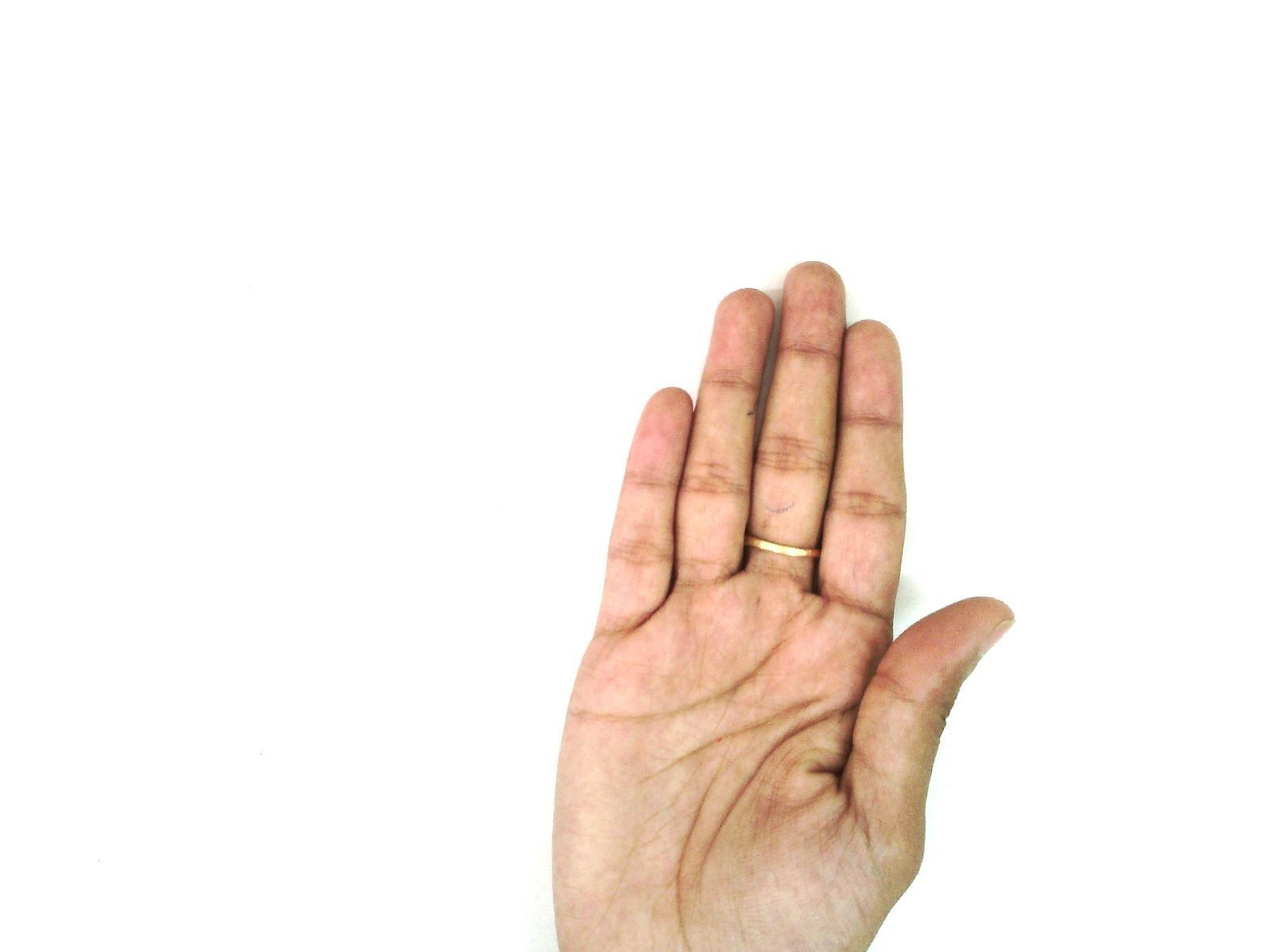open_palm: (548, 260, 1017, 951)
